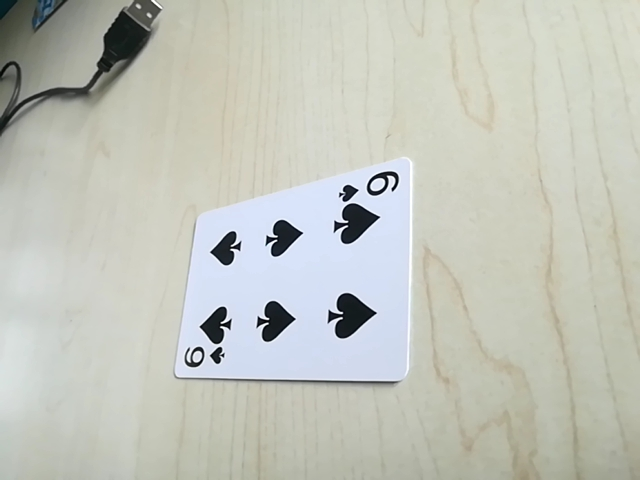ht 6: (336, 166, 401, 202), (176, 340, 226, 373)
